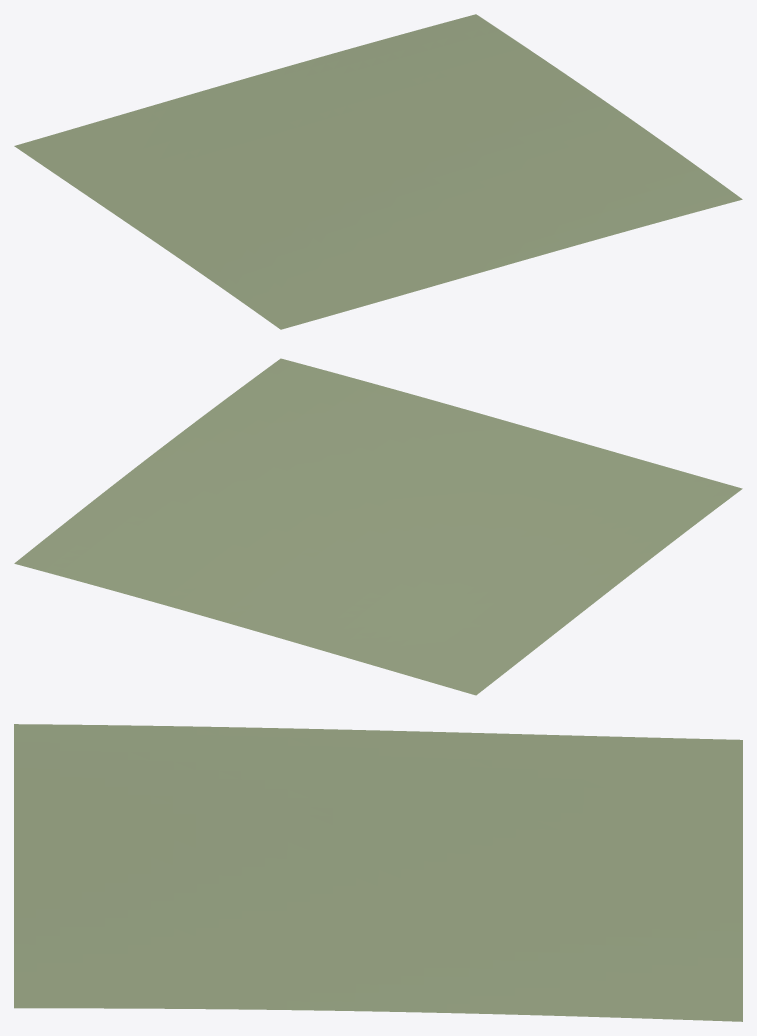
File: expanse-23-1.glb
3 views of the same model, one above another, from view 1: azimuth 30°, elevation 25°; view 2: azimuth 150°, elevation 25°; view 3: azimuth 270°, elevation 25° (orthographic). The views are drawn at different scales.
Parts seen in each view (by area): view 1: expanse-23-1; view 2: expanse-23-1; view 3: expanse-23-1.
Part boxes in pixels (box(x1,y1,x2,y2)): expanse-23-1: box(14, 14, 742, 329); expanse-23-1: box(14, 358, 742, 695); expanse-23-1: box(14, 724, 742, 1021).
Bounding box in the file's own units: 256 × 15.37 × 256.
